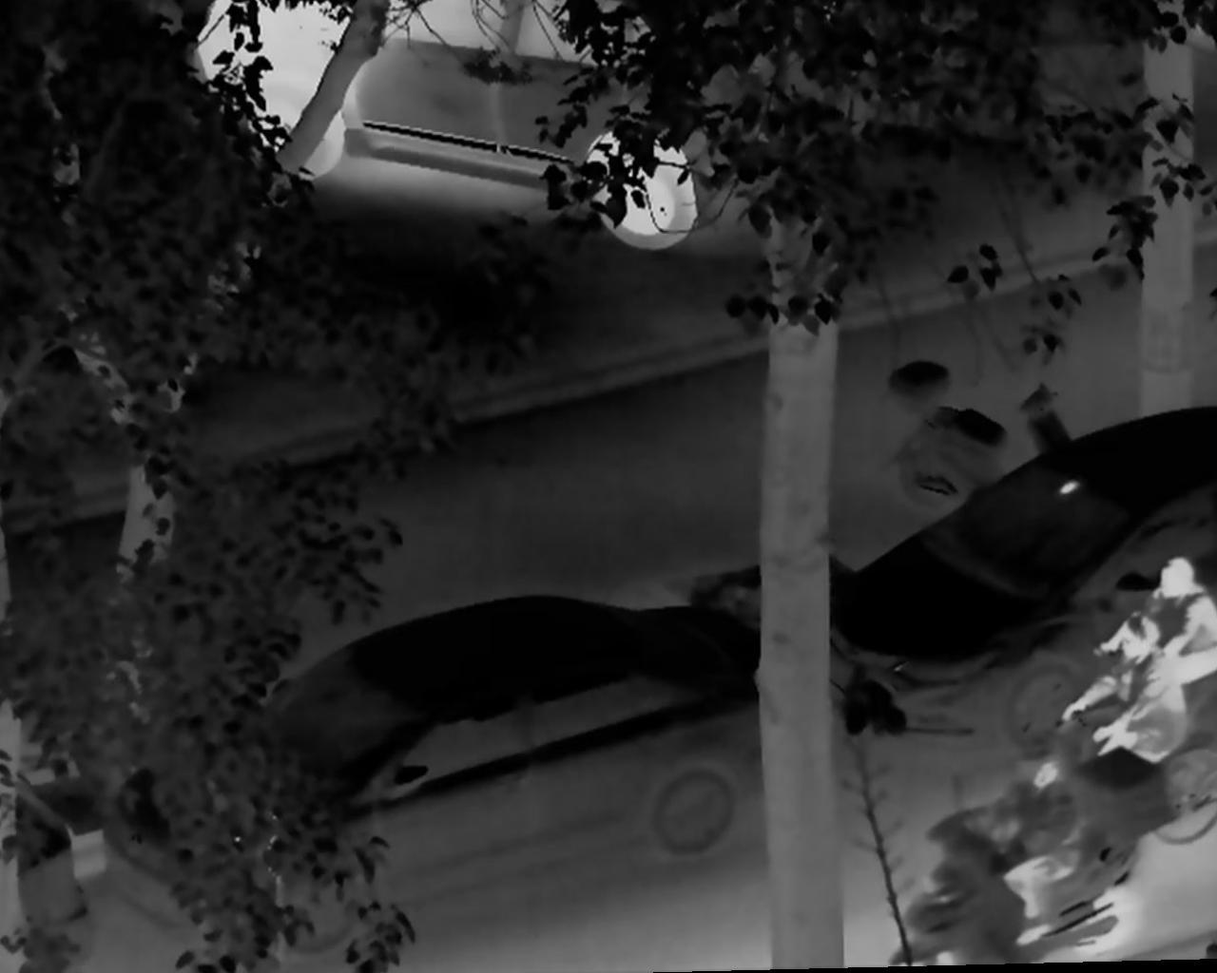person: (1068, 620, 1192, 821), (987, 741, 1091, 955), (1154, 547, 1217, 694)
